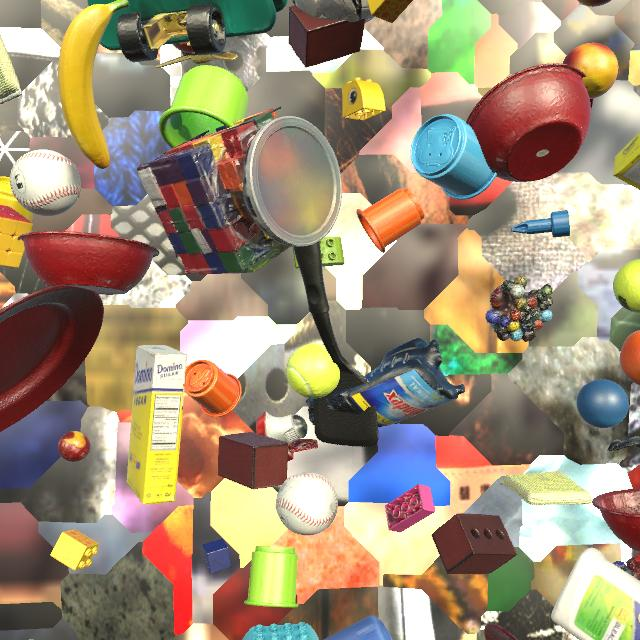ycb_004_sugar_box: (127, 345, 188, 505), (613, 133, 640, 190)
ycb_011_banana: (58, 0, 129, 169)
ycb_015_peach: (563, 43, 618, 99), (577, 0, 611, 7)
ycb_017_orange: (620, 330, 640, 386)
